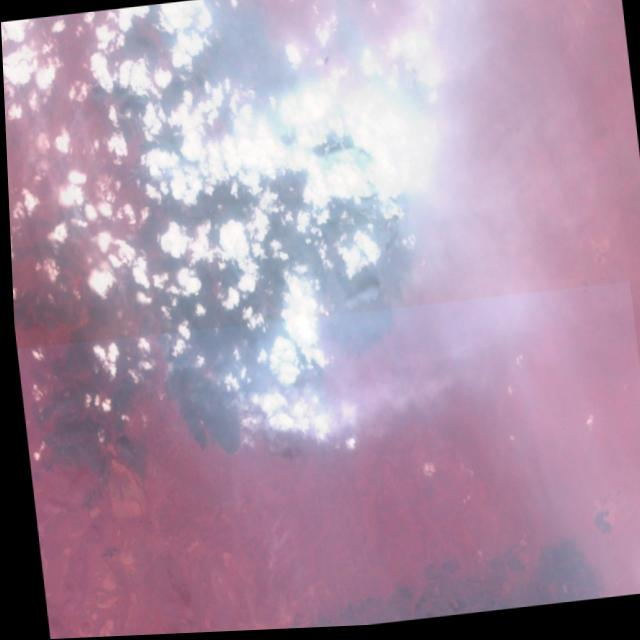fire: (207, 392, 249, 467), (147, 342, 181, 403)
